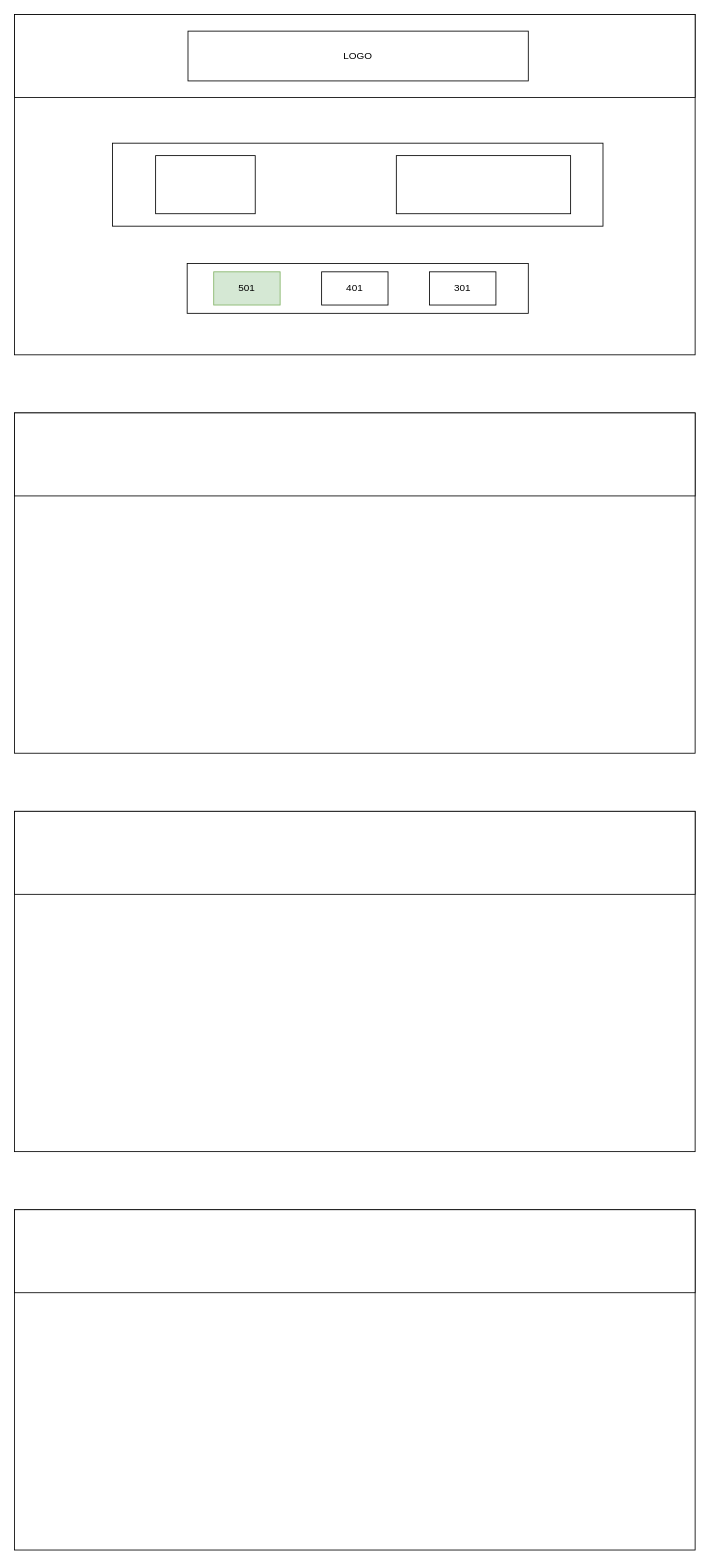
Some shapes in this 710 by 1565 pixel diagram are drawn without their labels. Here are the shapes that lost their labels. From the top down, the box of each, then its label:
(155, 155, 255, 214): 1 V 1
(395, 155, 571, 214): Start Game
